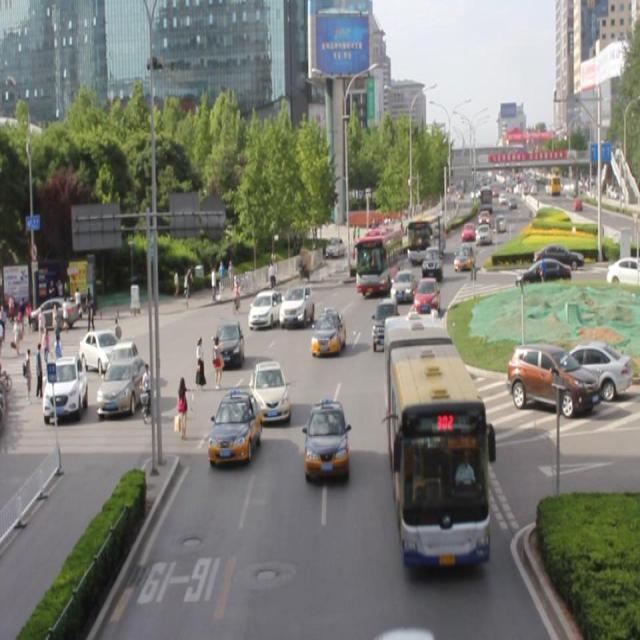car: (209, 389, 259, 463), (304, 399, 347, 479), (249, 359, 290, 424), (386, 323, 419, 383), (278, 280, 313, 327), (310, 308, 344, 356), (214, 320, 243, 370), (372, 296, 399, 349), (248, 288, 281, 326), (412, 276, 439, 314), (390, 268, 415, 301), (421, 244, 443, 279)
van: (384, 317, 489, 565), (354, 226, 401, 294)
